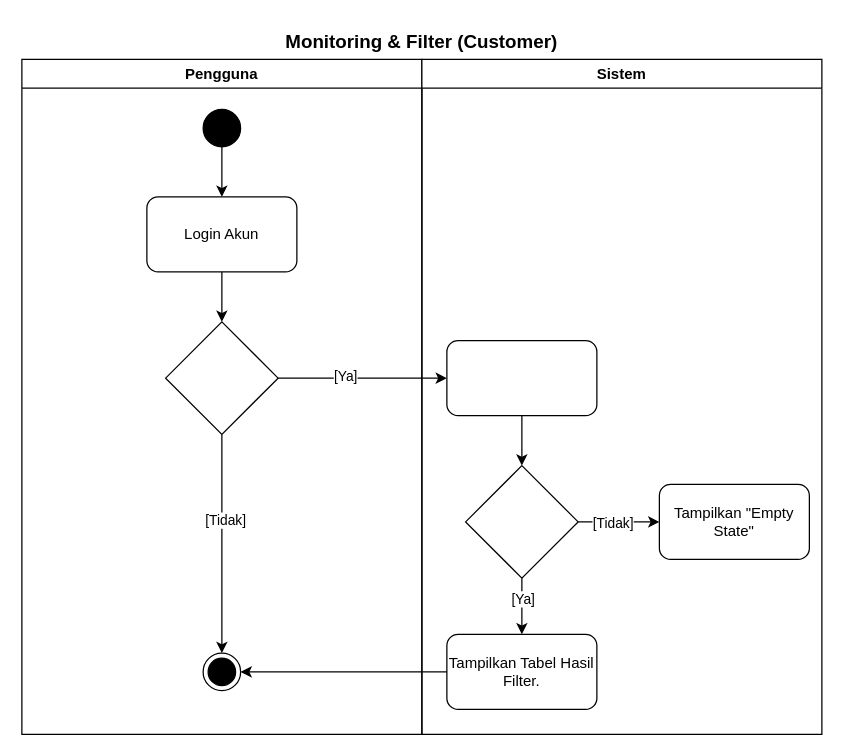
Image size: 844x756. Some labels were removed from this diagram. The shapes that lost their labels are listed below. From the top down, each one's centre as x and y in pixels, then its label:
At (x=221, y=377): "Filter Digunakan?".
At (x=521, y=377): "Proses Filter Data.".
At (x=521, y=521): "Data Ditemukan?".
